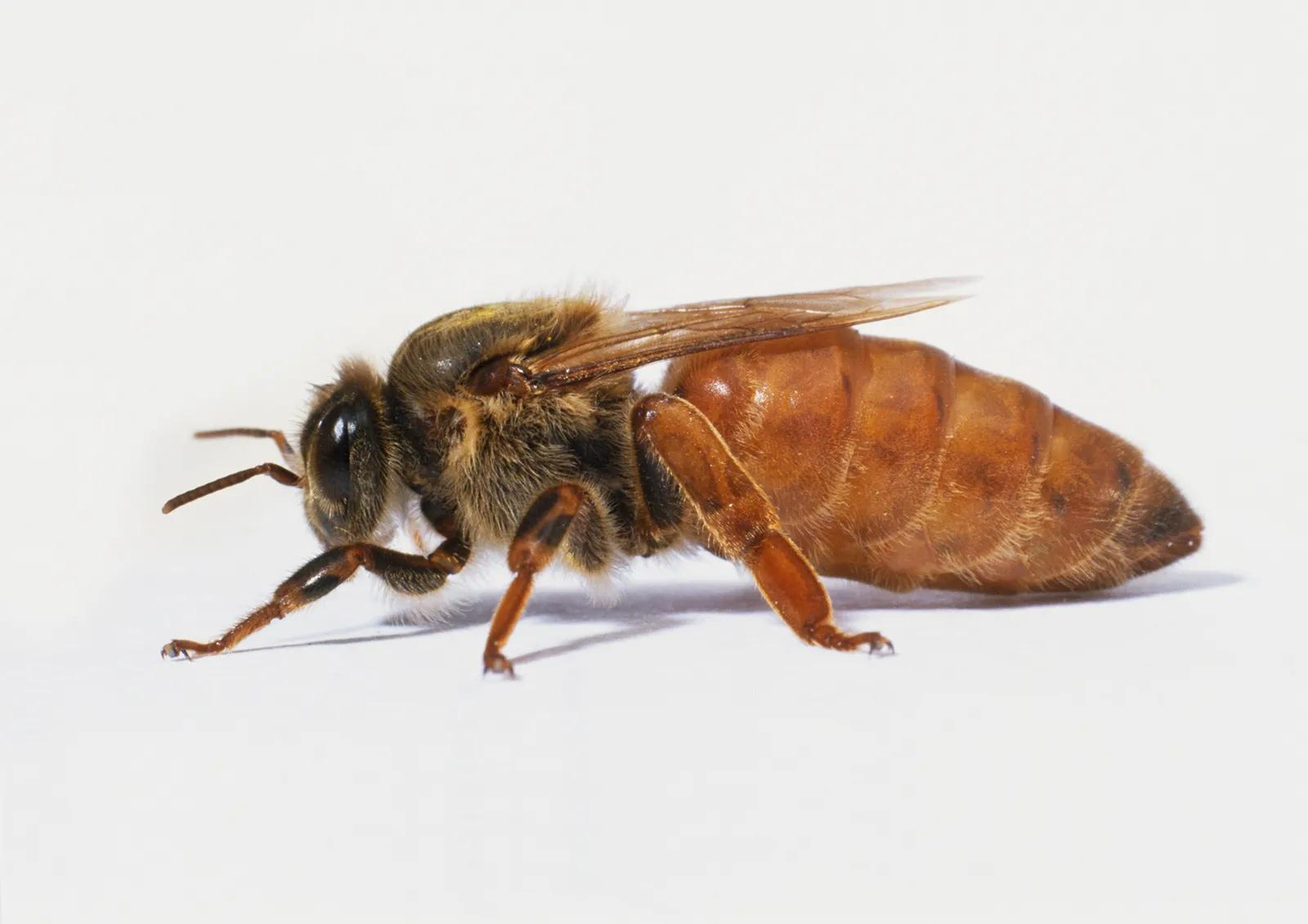Queen-Bee: (162, 279, 1202, 674)
